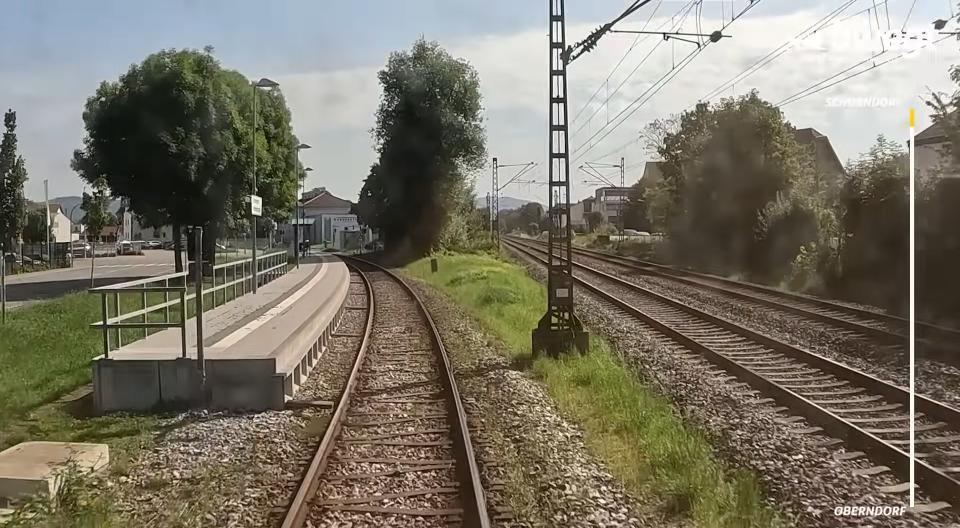Plant: (0, 459, 114, 528)
